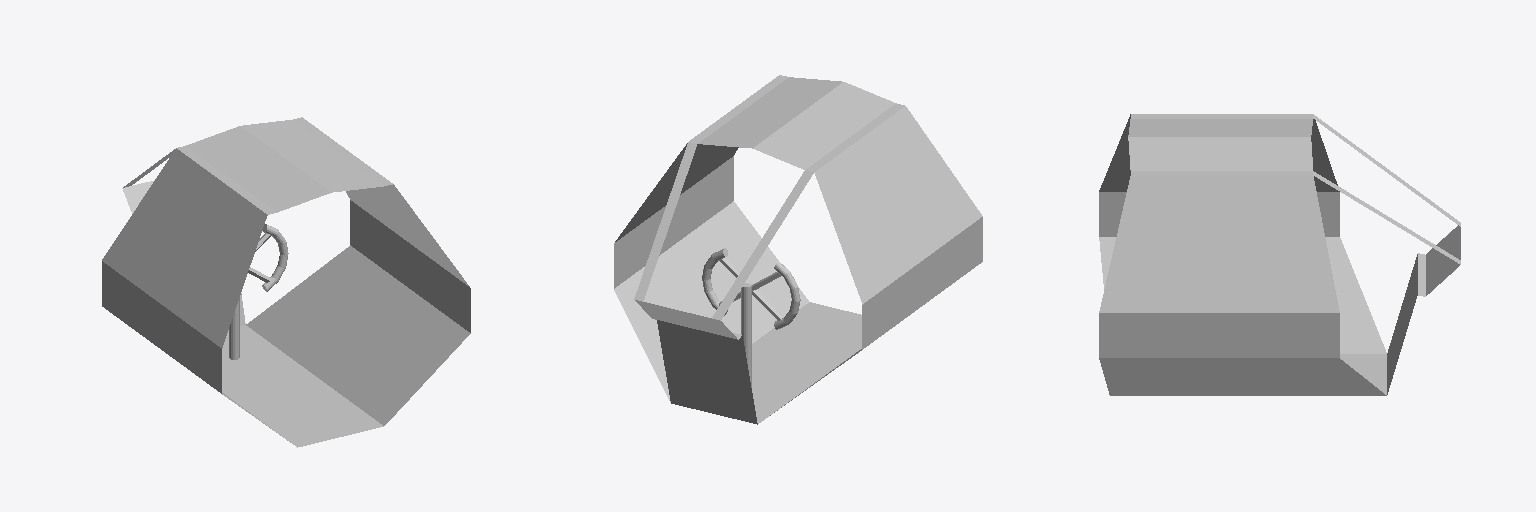
Rendered from SteeringWheel.obj.
The picture shows the model from 3 angles: view 1: azimuth 30°, elevation 25°; view 2: azimuth 150°, elevation 25°; view 3: azimuth 270°, elevation 25°; orthographic projection.
Parts seen in each view (by area): view 1: Plane, Handles_Circle; view 2: Plane, Handles_Circle, Cylinder_Cylinder.002, Bars_Cylinder.001; view 3: Plane.
Part boxes in pixels (x1,y1,x2,y2): Plane: (102, 117, 470, 447); Handles_Circle: (262, 224, 288, 291); Plane: (614, 75, 982, 424); Handles_Circle: (702, 248, 800, 329); Cylinder_Cylinder.002: (741, 283, 752, 387); Bars_Cylinder.001: (719, 258, 782, 320); Plane: (1099, 114, 1460, 395).
Bounding box in the file's own units: 7.9 × 7.21 × 9.95.